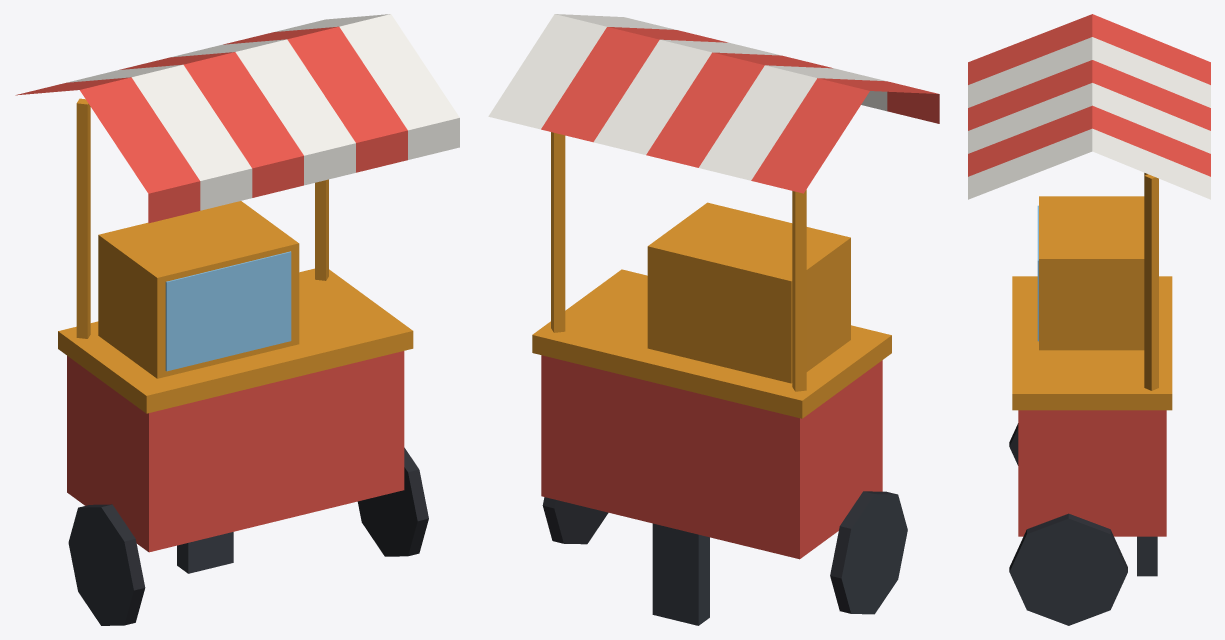
Rendered from P_SimitCart.fbx.
The picture shows the model from 3 angles, left to right: view 1: azimuth 30°, elevation 25°; view 2: azimuth 150°, elevation 25°; view 3: azimuth 270°, elevation 25°; orthographic projection. The views are drawn at different scales.
Visible parts, largest first — view 1: P_SimitCart; view 2: P_SimitCart; view 3: P_SimitCart.
Boxes of the visible parts, left/top/right/bottom form: P_SimitCart: left=15, top=14, right=459, bottom=625; P_SimitCart: left=488, top=14, right=939, bottom=625; P_SimitCart: left=968, top=14, right=1210, bottom=625.
Bounding box in the file's own units: 1.1 × 1.8 × 0.82.
